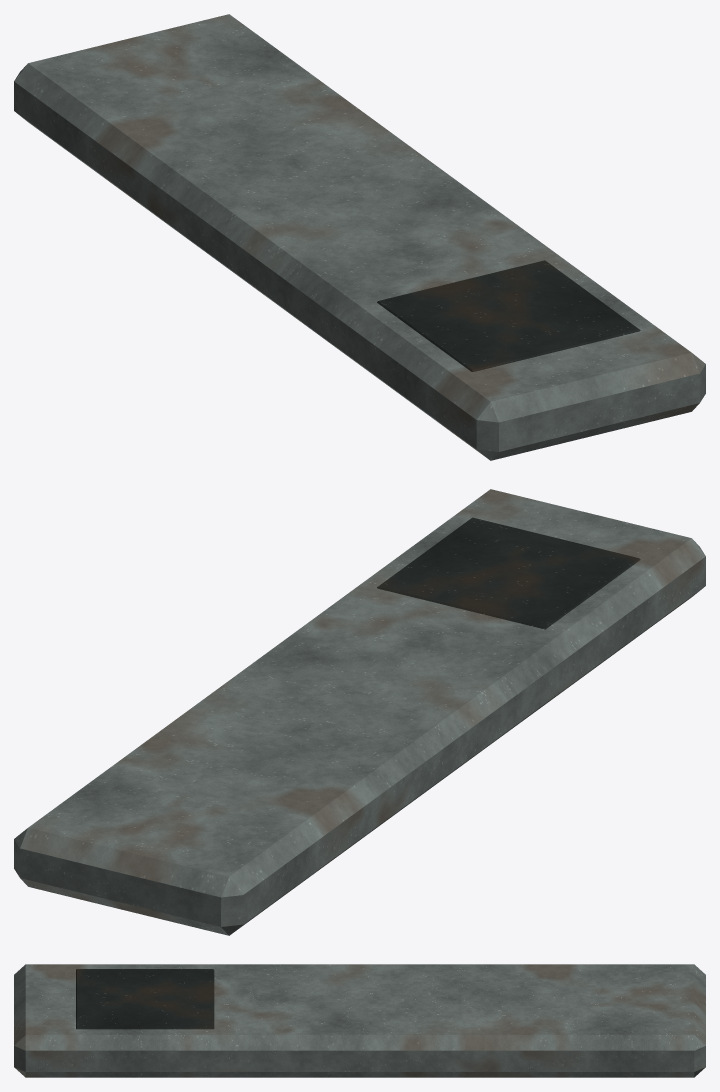
Rendered from MetalBlank.fbx.
The picture shows the model from 3 angles, top to bottom: view 1: azimuth 30°, elevation 25°; view 2: azimuth 150°, elevation 25°; view 3: azimuth 270°, elevation 25°; orthographic projection. The views are drawn at different scales.
Parts seen in each view (by area): view 1: MetalBlank_00_Beveled metal blank, MetalBlank_01_Inset dark rectangular stamp; view 2: MetalBlank_00_Beveled metal blank, MetalBlank_01_Inset dark rectangular stamp; view 3: MetalBlank_00_Beveled metal blank, MetalBlank_01_Inset dark rectangular stamp.
Part boxes in pixels (x1,y1,x2,y2): MetalBlank_00_Beveled metal blank: (14,14,705,460); MetalBlank_01_Inset dark rectangular stamp: (377,260,640,371); MetalBlank_00_Beveled metal blank: (14,489,705,935); MetalBlank_01_Inset dark rectangular stamp: (377,517,640,629); MetalBlank_00_Beveled metal blank: (14,964,705,1077); MetalBlank_01_Inset dark rectangular stamp: (76,969,214,1029).
Bounding box in the file's own units: 6.5 × 1.65 × 23.5.
